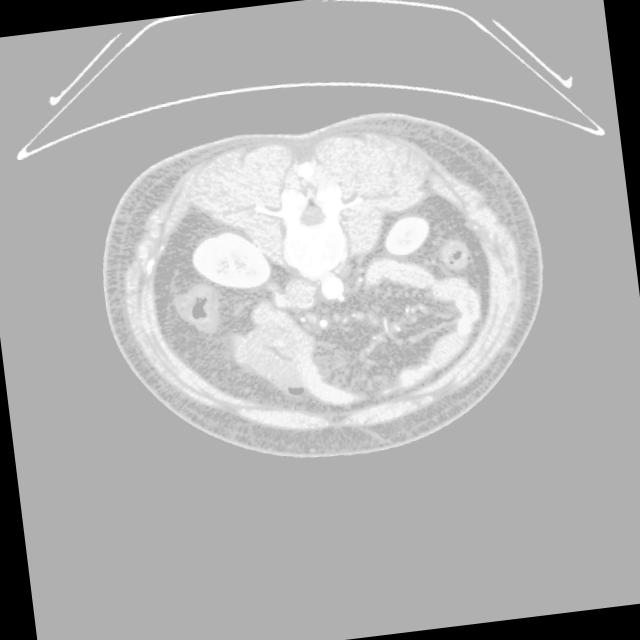NORMAL: (86, 87, 567, 502)
